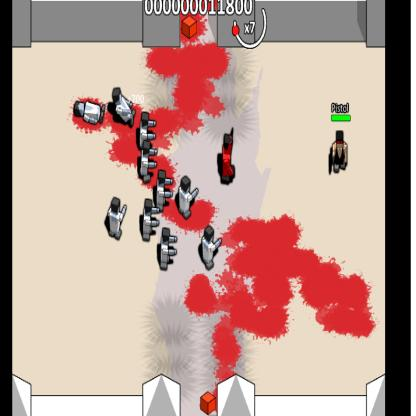agent: (330, 131, 348, 174)
boss: (219, 134, 234, 186)
jombie: (108, 198, 124, 241), (202, 225, 215, 270), (159, 227, 172, 272), (143, 198, 155, 242), (178, 176, 190, 219), (140, 142, 150, 186), (137, 112, 152, 140), (156, 168, 165, 212)
